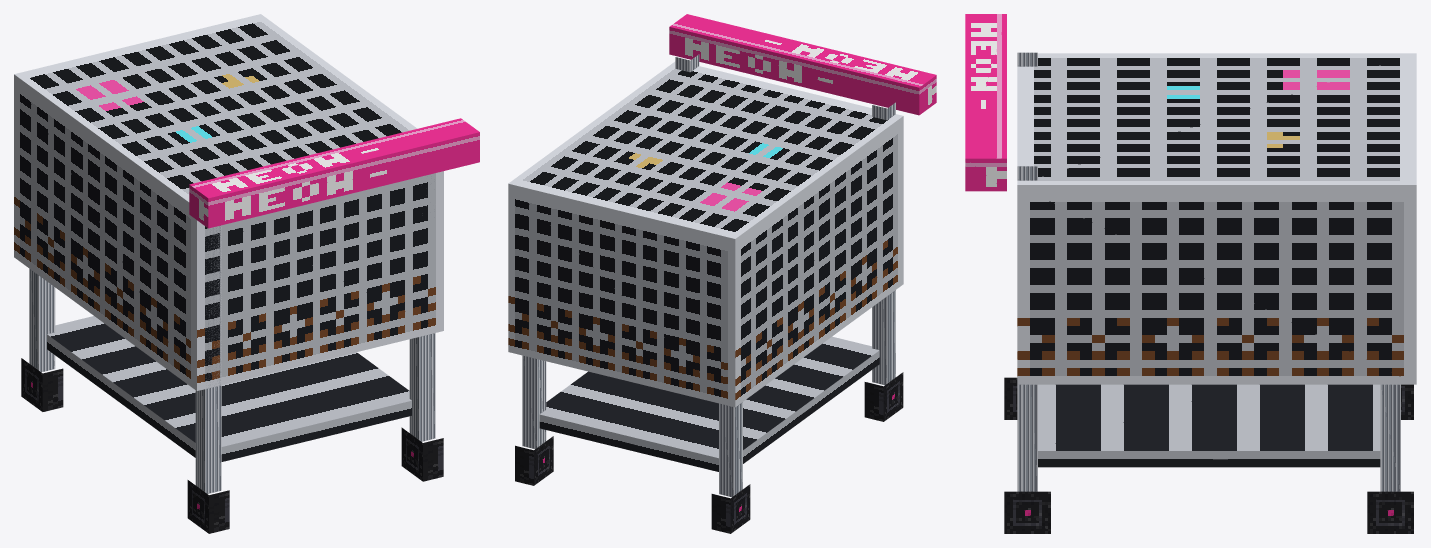
The model's file is shopping_cart.glb.
3 views of the same model, side by side, from view 1: azimuth 30°, elevation 25°; view 2: azimuth 150°, elevation 25°; view 3: azimuth 270°, elevation 25° (orthographic). The views are drawn at different scales.
Parts seen in each view (by area): view 1: Cart, Handle, Wheels; view 2: Cart, Handle, Wheels; view 3: Cart, Handle, Wheels.
Part boxes in pixels (x1,y1,x2,y2): Cart: (14,14,443,493); Handle: (189,118,479,228); Wheels: (21,358,443,533); Cart: (508,54,903,496); Handle: (669,14,936,115); Wheels: (515,372,903,533); Cart: (1017,52,1416,491); Handle: (965,14,1006,191); Wheels: (1004,377,1413,533).
Bounding box in the file's own units: 0.825 × 1.03 × 1.09.
1 material, 1 textured.
